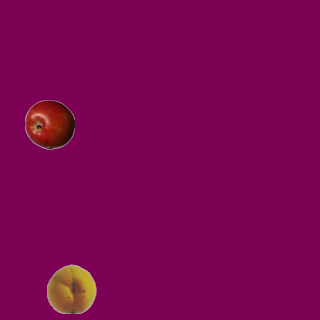Apple Braeburn: (24, 99, 74, 149)
Peach 2: (46, 263, 96, 313)
